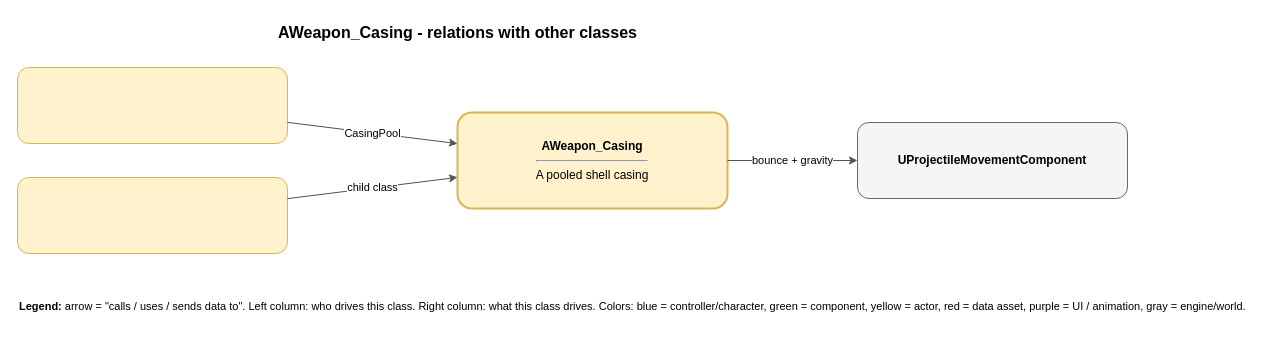
The diagram is 1264 pixels wide and 350 high, and some of its shapes have lost their labels. The shapes that lost their labels are listed below. From the top down, each one's centre as x and y in pixels, then its label:
[152,105]: AWeaponBase
[152,215]: HoneyBadger_Casing
